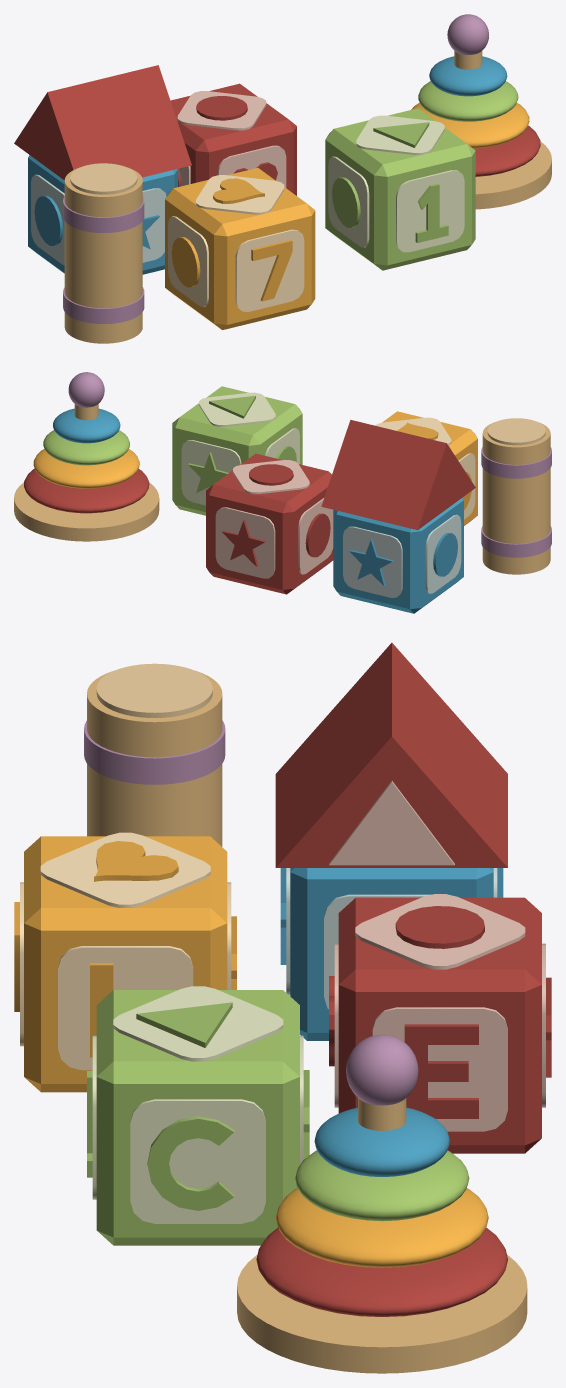
The model's file is toy-blocks.glb.
The picture shows the model from 3 angles, top to bottom: view 1: azimuth 30°, elevation 25°; view 2: azimuth 150°, elevation 25°; view 3: azimuth 270°, elevation 25°; orthographic projection. The views are drawn at different scales.
Parts seen in each view (by area): view 1: toy-blocks; view 2: toy-blocks; view 3: toy-blocks.
Boxes of the visible parts, x1,y1,x2,y2 form: toy-blocks: (14,14,551,343); toy-blocks: (14,372,551,613); toy-blocks: (14,642,551,1373).
Bounding box in the file's own units: 2.23 × 0.72 × 1.11.
